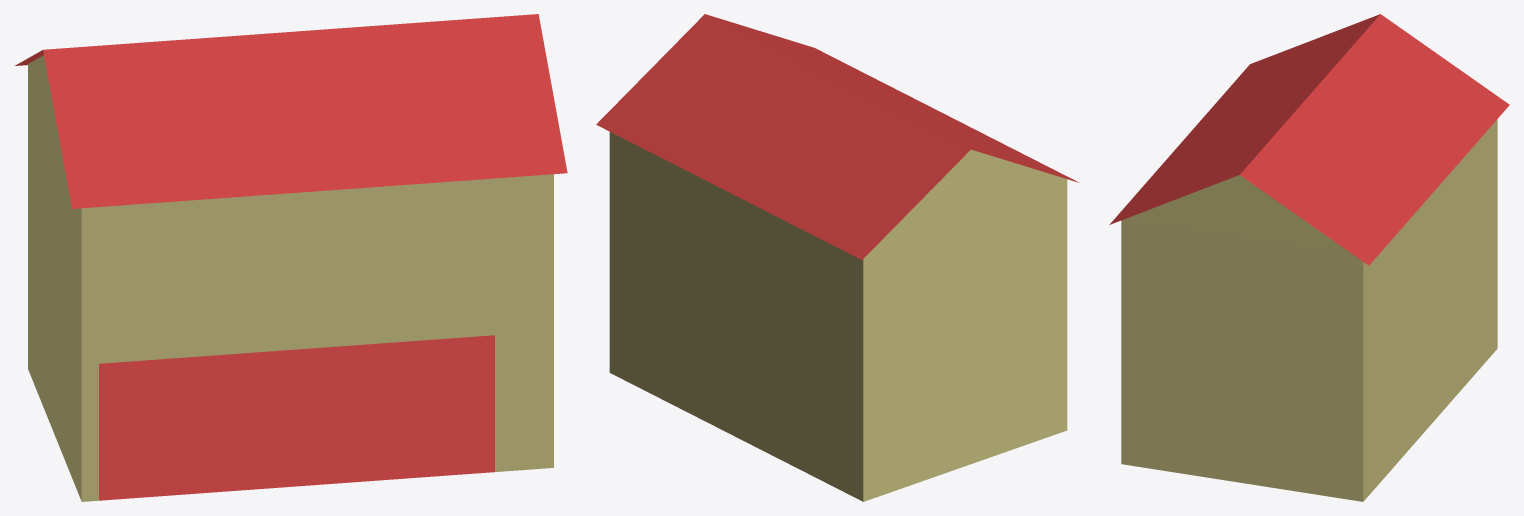
The picture shows the model from 3 angles, left to right: view 1: azimuth 30°, elevation 25°; view 2: azimuth 150°, elevation 25°; view 3: azimuth 270°, elevation 25°; orthographic projection. The views are drawn at different scales.
Size of the model in its own units: 12.47 by 10.48 by 9.
